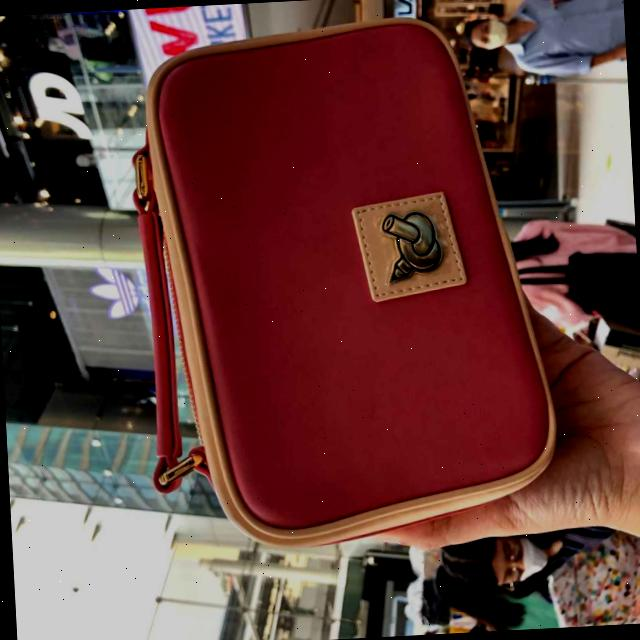Handbag: (119, 11, 579, 570)
